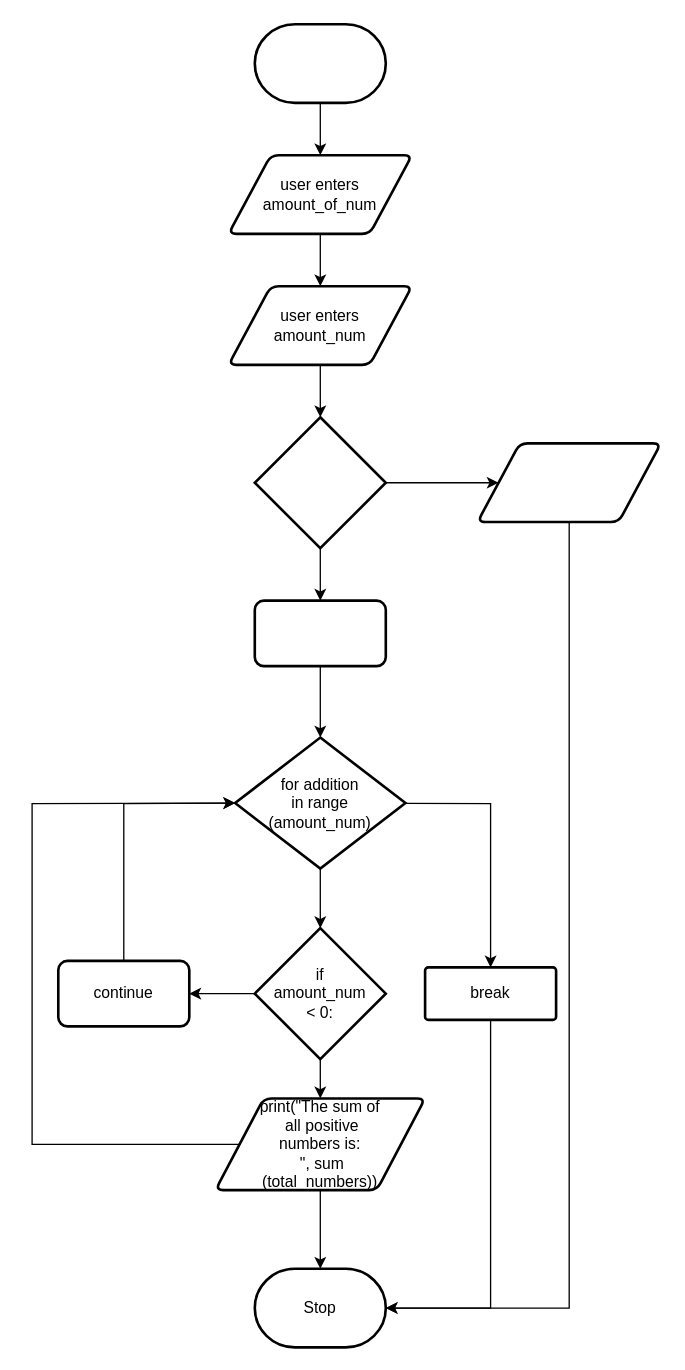
The diagram is 685 pixels wide and 1370 high, and some of its shapes have lost their labels. The centre of each missing label's shape, as x and y in pixels:
convert string to int: point (319, 633)
print("That is not a valid input."): point (569, 482)
Start: point (319, 62)
try: point (319, 482)
